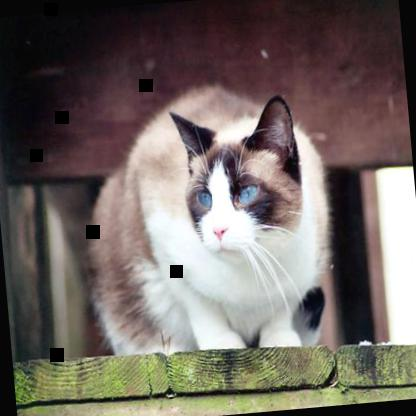cat: (78, 76, 340, 362)
